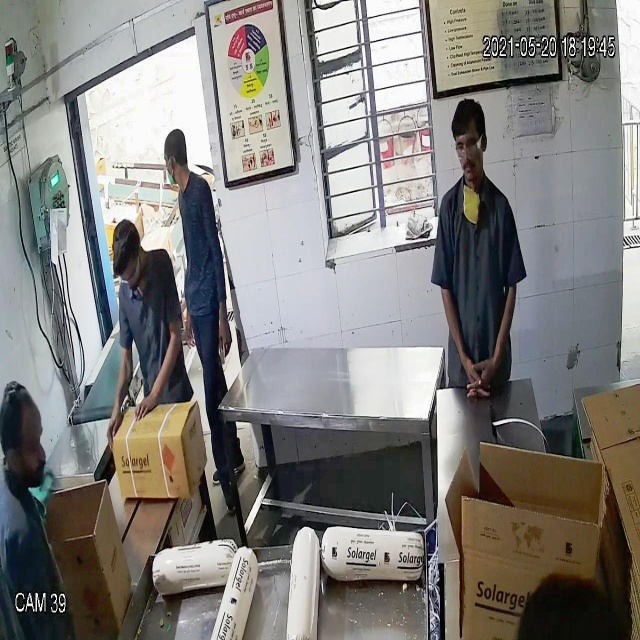Gafas: (452, 133, 485, 161)
